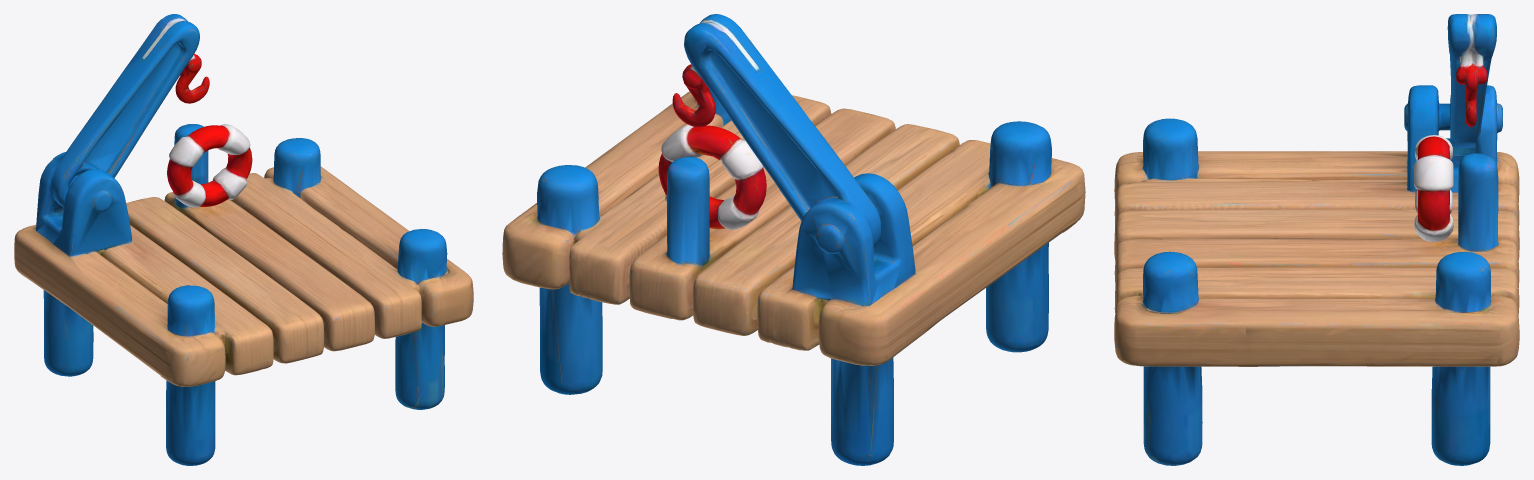
Rendered from dock.glb.
The picture shows the model from 3 angles, left to right: view 1: azimuth 30°, elevation 25°; view 2: azimuth 150°, elevation 25°; view 3: azimuth 270°, elevation 25°; orthographic projection. The views are drawn at different scales.
Parts seen in each view (by area): view 1: Mesh_0; view 2: Mesh_0; view 3: Mesh_0.
Part boxes in pixels (x1,y1,x2,y2): Mesh_0: (14, 14, 473, 465); Mesh_0: (502, 14, 1085, 465); Mesh_0: (1114, 14, 1519, 465).
Bounding box in the file's own units: 1.88 × 1.91 × 1.85.
1 material, 1 textured.
